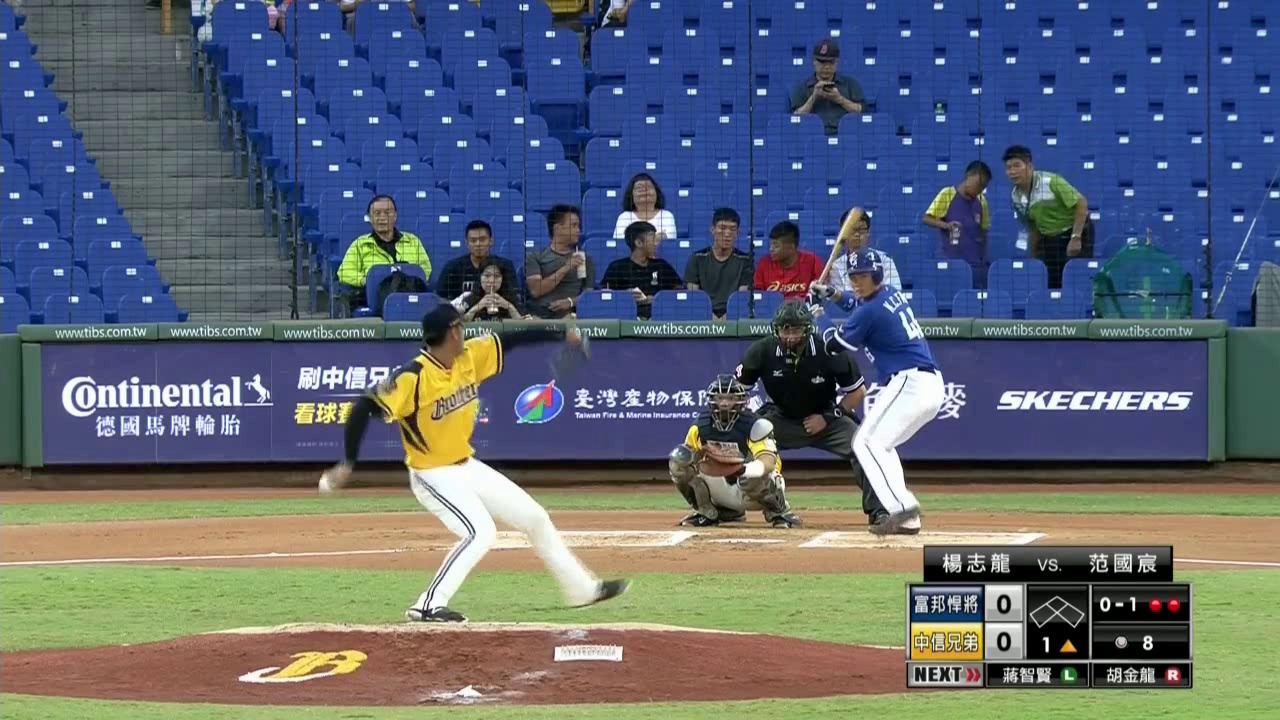ball: (315, 474, 337, 494)
base: (1028, 591, 1088, 629)
bat: (814, 205, 867, 284)
out: (1147, 596, 1181, 613)
score1: (985, 584, 1022, 620)
score2: (986, 623, 1021, 658)
session: (1038, 635, 1080, 655)
strikeball: (1096, 592, 1140, 614)
total: (1109, 630, 1158, 655)
